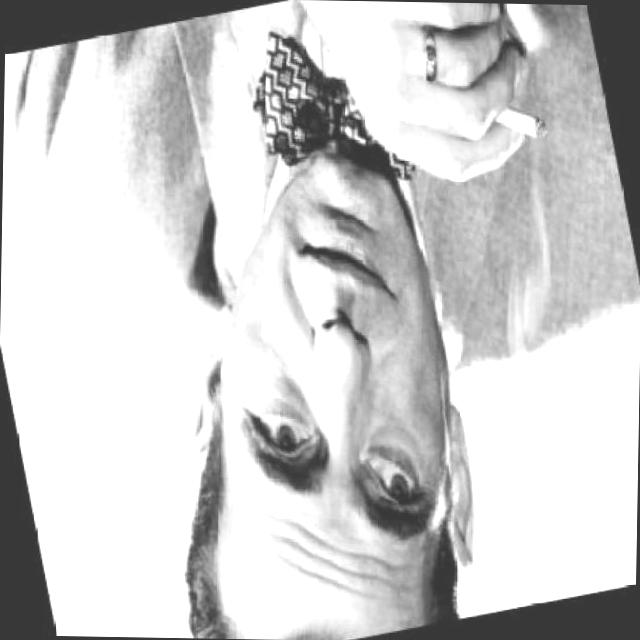cigarette: (489, 96, 552, 151)
